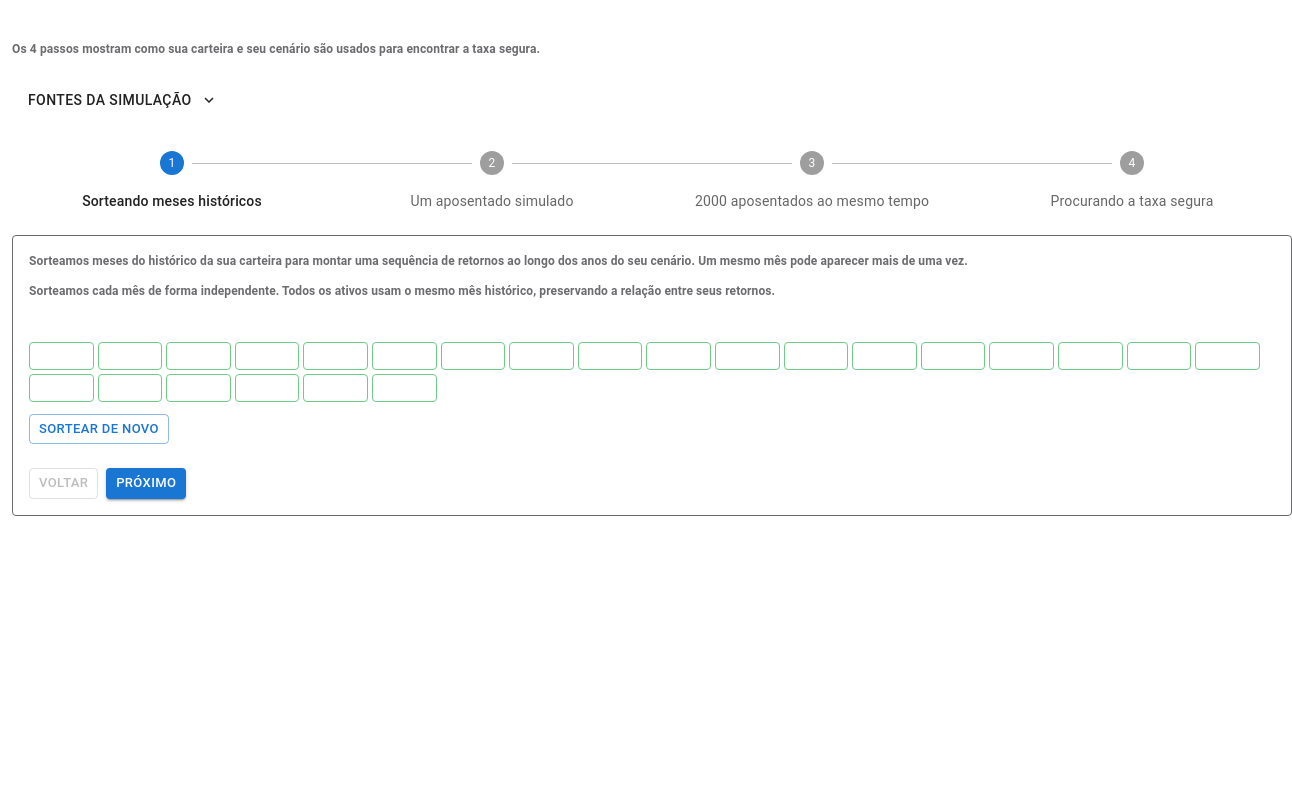
Scenario: cancels pending calculation when leaving the step
The image size is (1292, 800).
What coordinates should you click on to do the following:
click the text "2000 aposentados ao mesmo tempo"
I would click on:
 (812, 200)
Its box is [695,192,929,208].
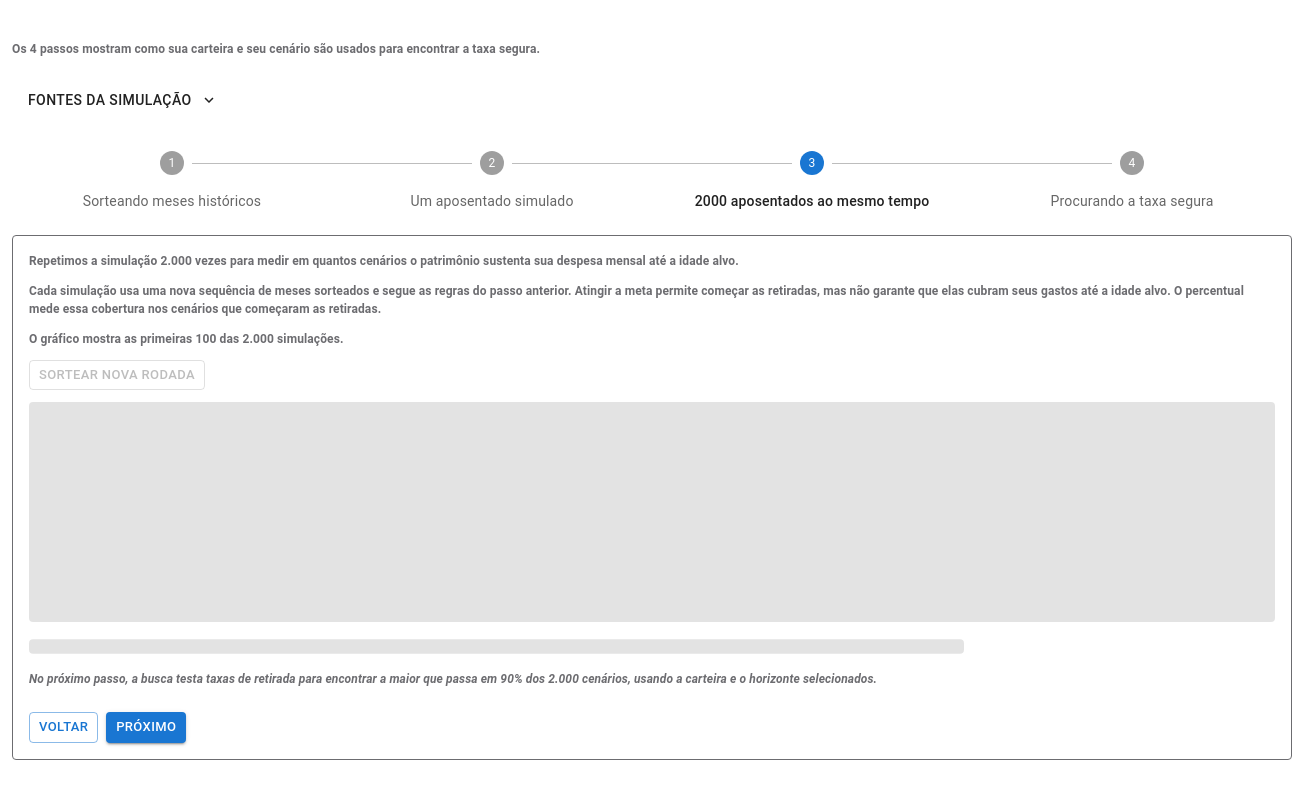
Expected: the button "Sortear nova rodada" is disabled, [29,360,205,390]
